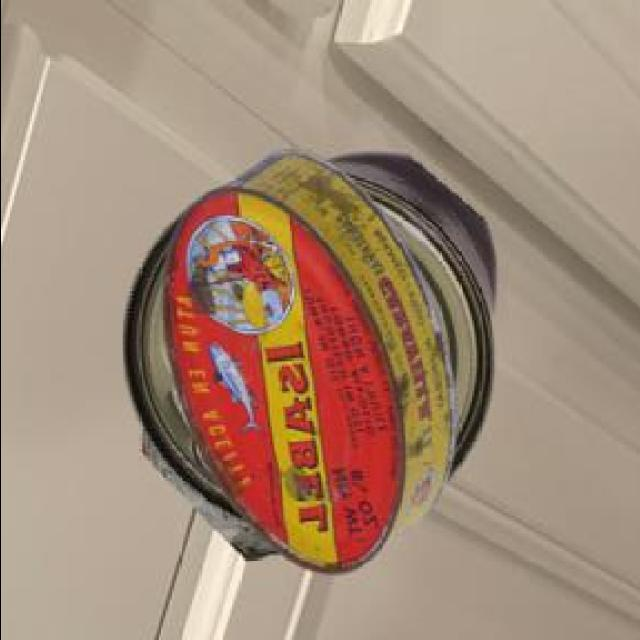logam: (119, 148, 492, 519), (159, 148, 452, 570), (137, 429, 274, 557)
